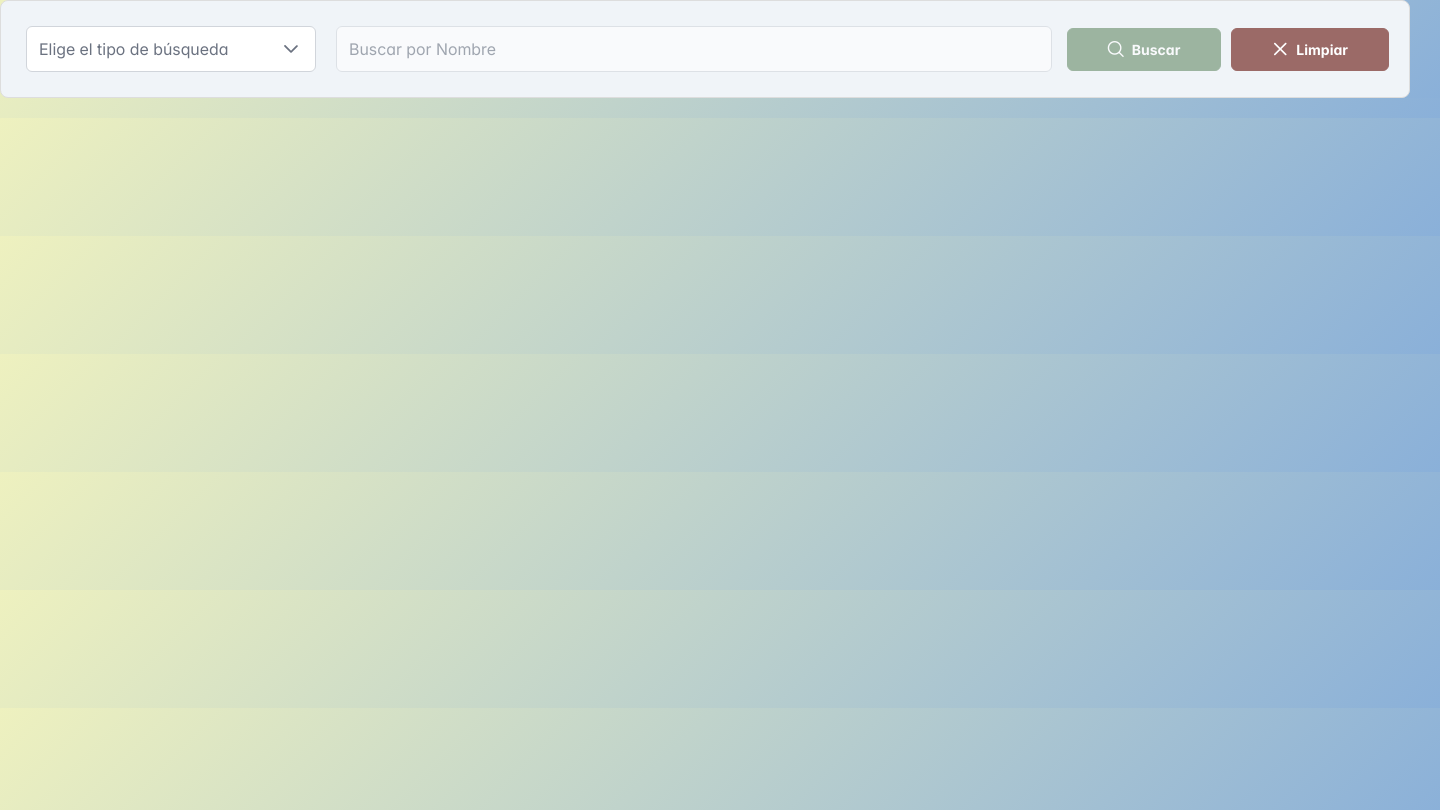
Test: Componente ProductSearch › limpia la búsqueda correctamente
# Seleccionar búsqueda por nombre
Click the element with test id "search-type-dropdown" at [171, 49], box [26,26,316,72]
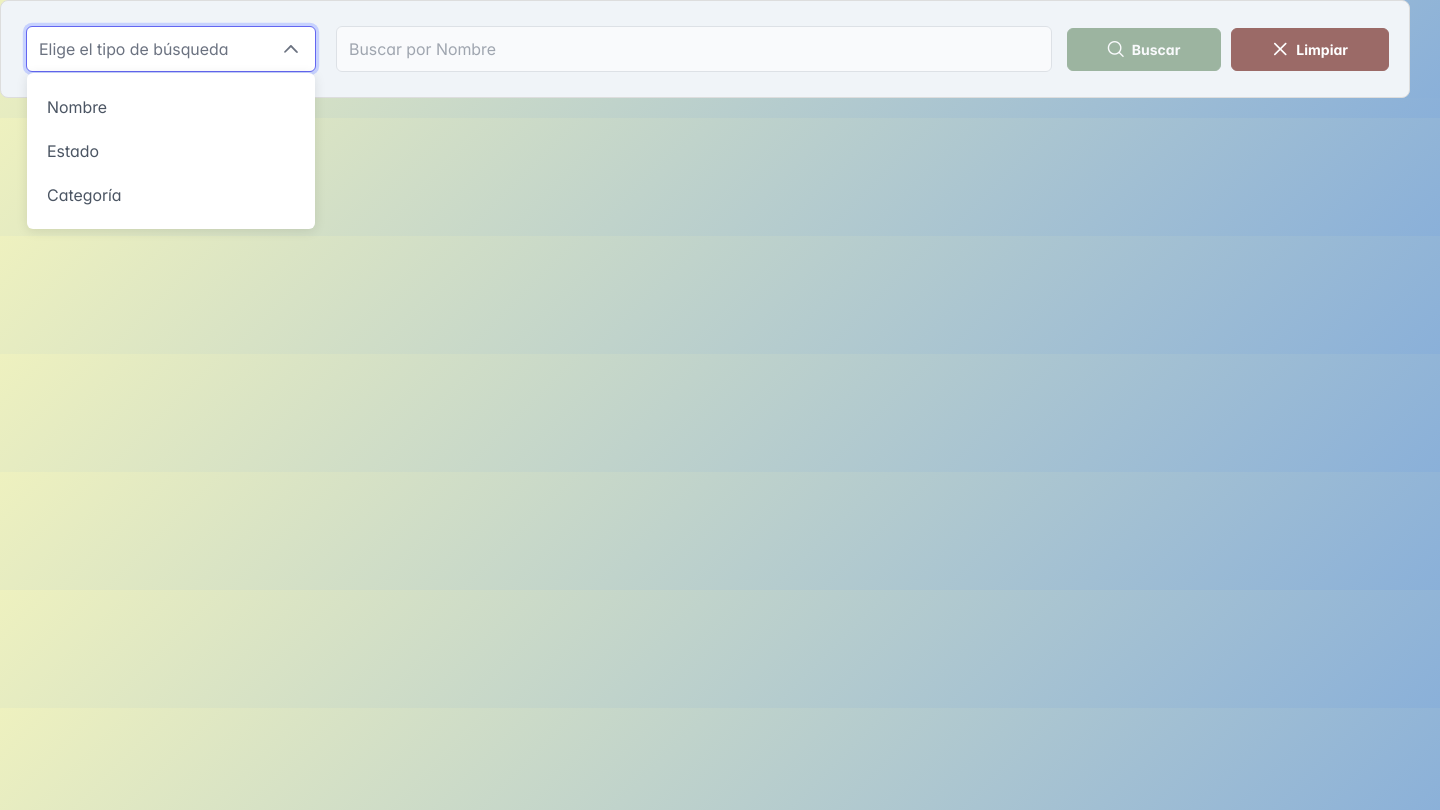
Click the option "Nombre" at [77, 107], box [47,97,107,117]
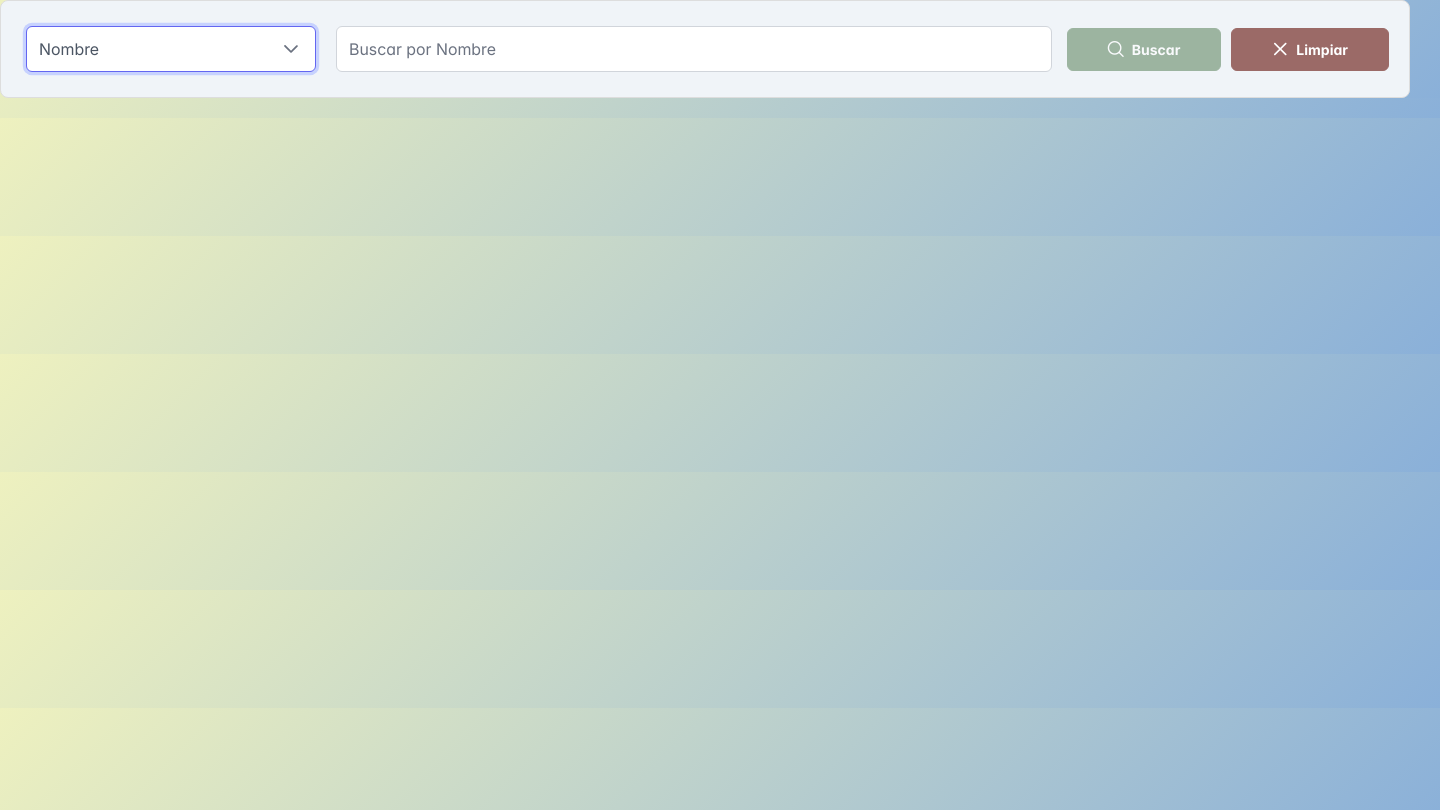
# Ingresar un nombre
Type "Producto 1" into the field with placeholder "Buscar por Nombre" at [694, 49], box [336,26,1052,72]
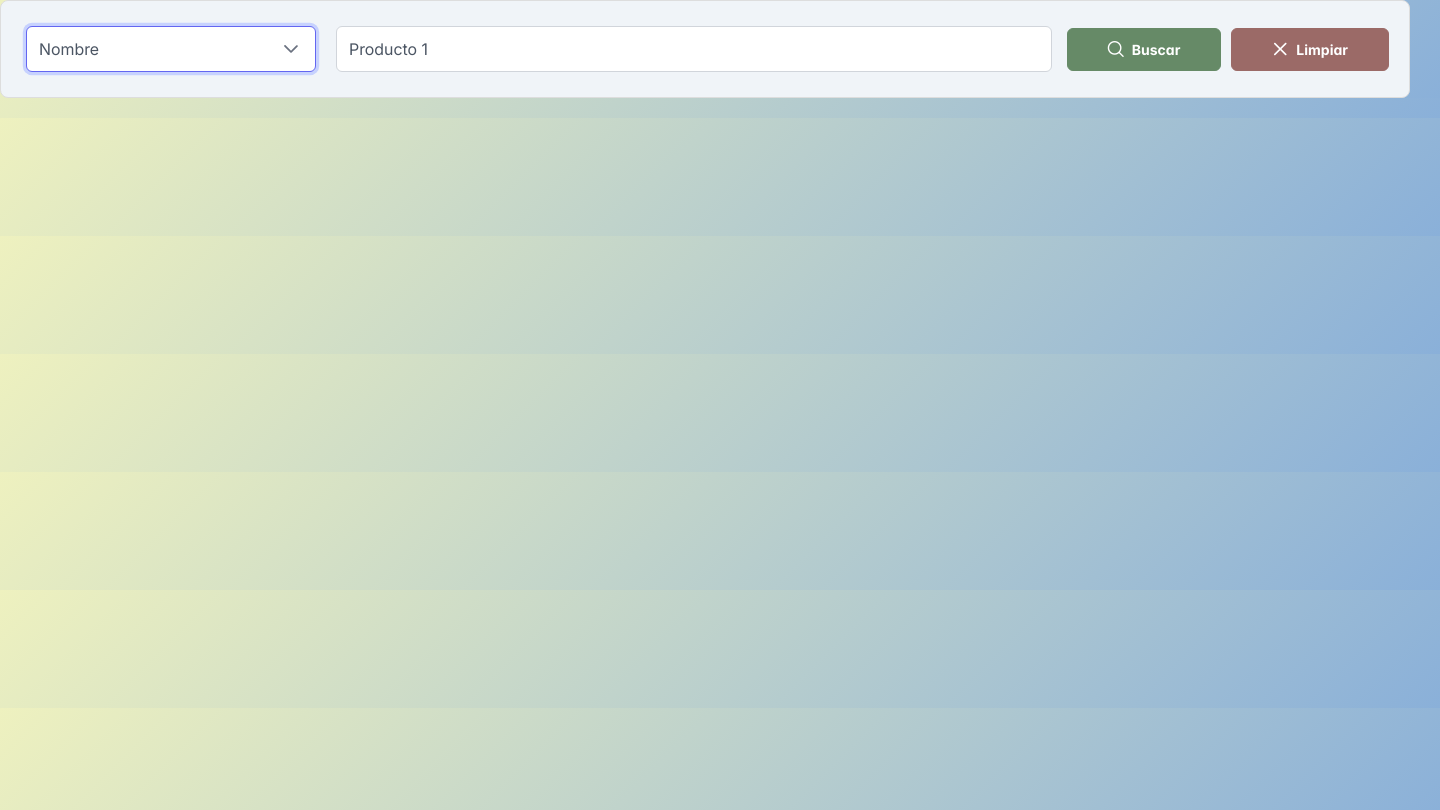
# Hacer clic en "Limpiar"
Click the button "Limpiar" at [1310, 49], box [1231,28,1389,70]
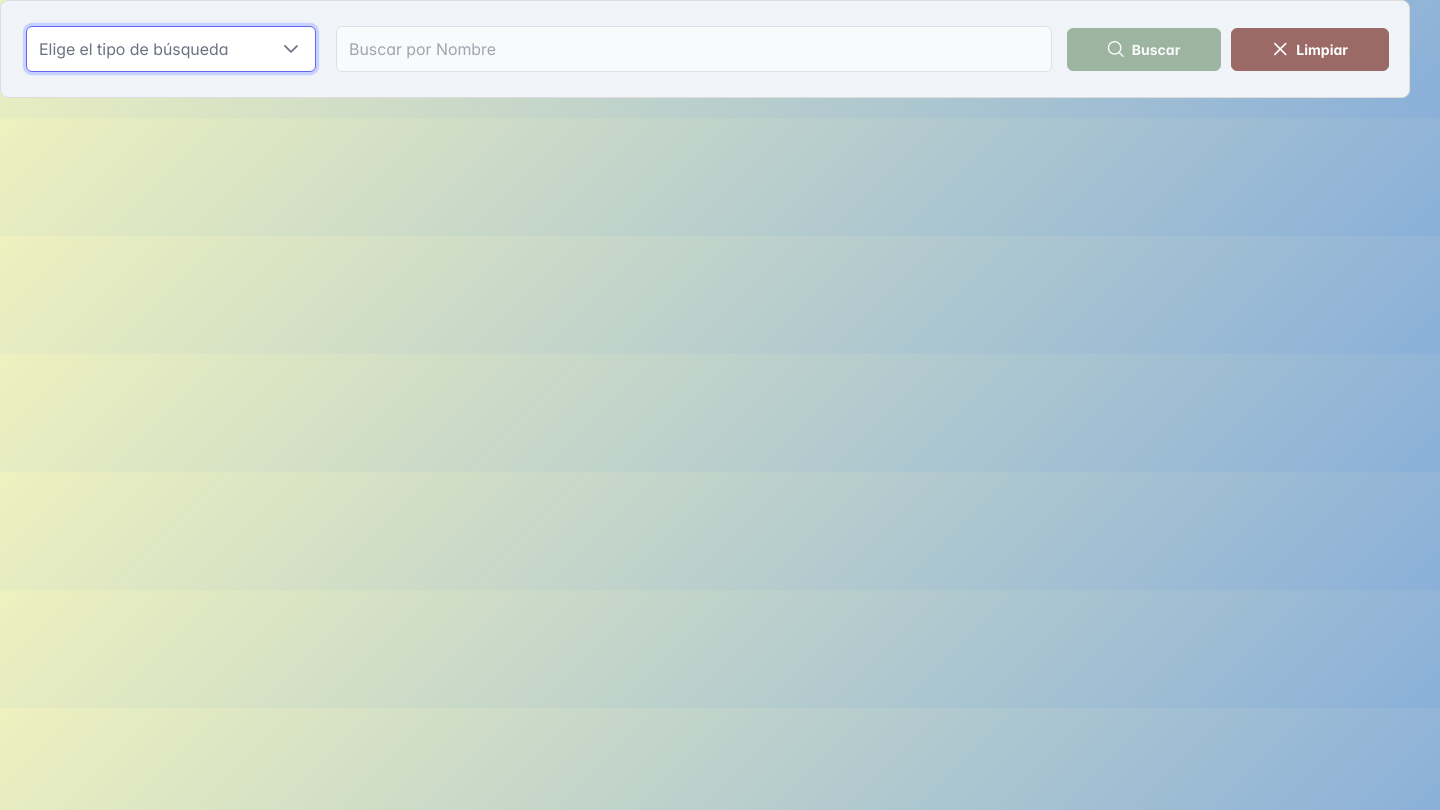
expect the field with placeholder "Buscar por Nombre" is empty: met, box [336,26,1052,72]
